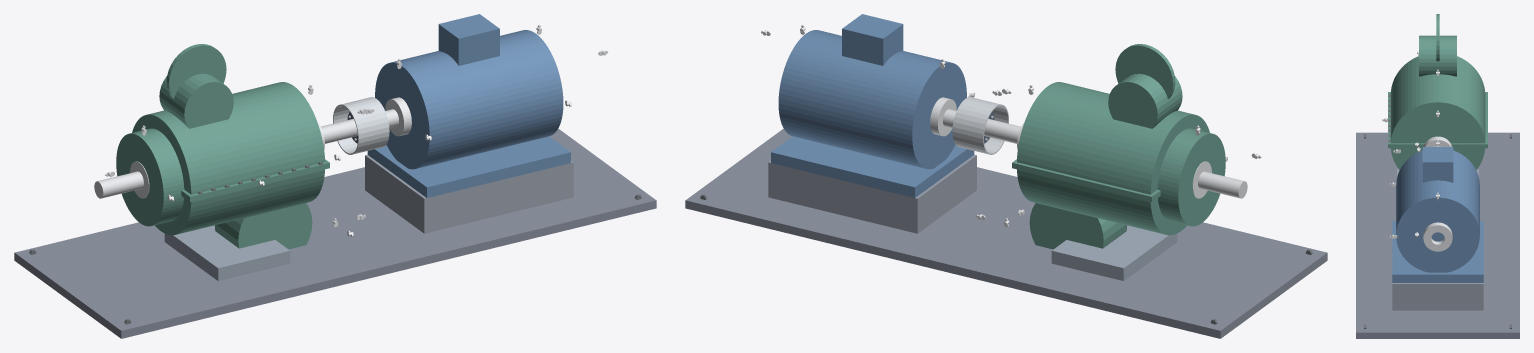
Rendered from turbine.glb.
3 views of the same model, side by side, from view 1: azimuth 30°, elevation 25°; view 2: azimuth 150°, elevation 25°; view 3: azimuth 270°, elevation 25° (orthographic). The views are drawn at different scales.
Parts seen in each view (by area): view 1: PART_001, CASING_GENCASE_046, CASING_TURBCASE_006, PART_050, CASING_GENFOOT_047, CASING_TURBCASE_007, CASING_PEDESTAL_022, CASING_EXHAUST_021, CASING_INLET_019, CASING_TERMBOX_048, CASING_GUARD_045, CASING_INLET_020 (+3 smaller); view 2: PART_001, CASING_GENCASE_046, CASING_TURBCASE_006, PART_050, CASING_GENFOOT_047, CASING_TURBCASE_007, CASING_PEDESTAL_022, CASING_EXHAUST_021, CASING_INLET_019, CASING_TERMBOX_048, CASING_GUARD_045, CASING_INLET_020 (+3 smaller); view 3: PART_001, CASING_GENCASE_046, CASING_TURBCASE_006, PART_050, CASING_GENFOOT_047, CASING_INLET_019, CASING_TERMBOX_048, CASING_SPLITLINE_008, BRG_GEN_NDE, BRG_TURB_DE, CASING_INLET_020.
Part boxes in pixels (<box>): PART_001: <box>14,128,656,338</box>; CASING_GENCASE_046: <box>375,30,563,169</box>; CASING_TURBCASE_006: <box>132,82,324,235</box>; PART_050: <box>365,154,573,233</box>; CASING_GENFOOT_047: <box>367,136,570,197</box>; CASING_TURBCASE_007: <box>116,128,184,226</box>; CASING_PEDESTAL_022: <box>164,225,290,280</box>; CASING_EXHAUST_021: <box>214,203,312,249</box>; CASING_INLET_019: <box>159,73,233,128</box>; CASING_TERMBOX_048: <box>438,14,499,65</box>; CASING_GUARD_045: <box>333,97,389,154</box>; CASING_INLET_020: <box>166,44,226,98</box>; PART_001: <box>685,128,1327,338</box>; CASING_GENCASE_046: <box>778,30,966,169</box>; CASING_TURBCASE_006: <box>1017,82,1209,235</box>; PART_050: <box>768,154,976,233</box>; CASING_GENFOOT_047: <box>771,136,974,197</box>; CASING_TURBCASE_007: <box>1157,128,1225,226</box>; CASING_PEDESTAL_022: <box>1051,225,1177,280</box>; CASING_EXHAUST_021: <box>1029,203,1127,249</box>; CASING_INLET_019: <box>1108,73,1182,128</box>; CASING_TERMBOX_048: <box>842,14,903,65</box>; CASING_GUARD_045: <box>952,97,1008,154</box>; CASING_INLET_020: <box>1115,44,1175,98</box>; PART_001: <box>1356,132,1519,338</box>; CASING_GENCASE_046: <box>1396,150,1479,272</box>; CASING_TURBCASE_006: <box>1390,56,1485,169</box>; PART_050: <box>1392,283,1483,310</box>; CASING_GENFOOT_047: <box>1392,221,1483,282</box>; CASING_INLET_019: <box>1419,35,1456,76</box>; CASING_TERMBOX_048: <box>1422,147,1453,182</box>; CASING_SPLITLINE_008: <box>1388,92,1487,148</box>; BRG_GEN_NDE: <box>1423,222,1452,251</box>; BRG_TURB_DE: <box>1424,136,1451,146</box>; CASING_INLET_020: <box>1436,14,1439,61</box>.
Bounding box in the file's own units: 5.2 × 2.16 × 1.8.
